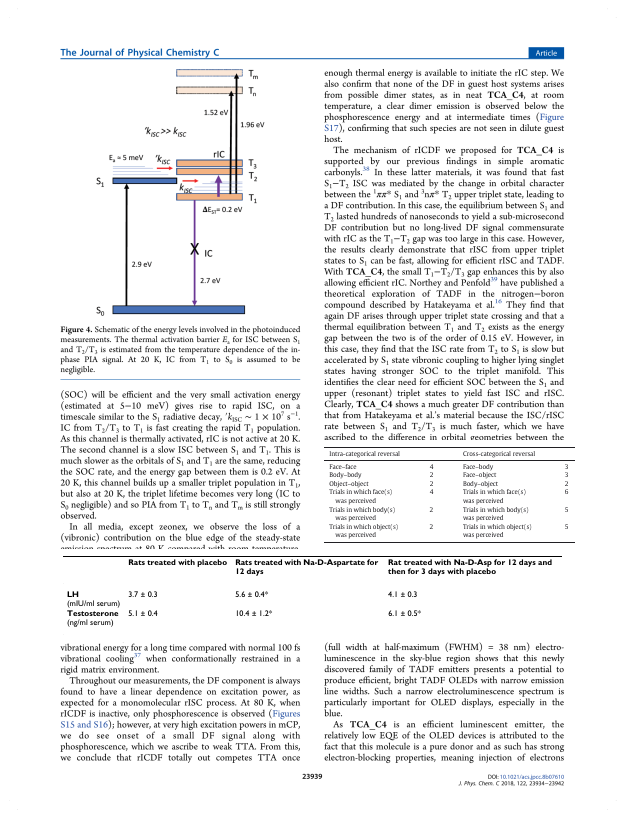borderless: (61, 554, 563, 636), (323, 445, 575, 542)
cell: (387, 559, 552, 577), (234, 559, 379, 577), (328, 523, 399, 540), (462, 523, 533, 540), (328, 505, 396, 522), (462, 505, 530, 522), (328, 488, 393, 505), (462, 488, 527, 505), (65, 590, 121, 609), (65, 610, 119, 628), (127, 559, 228, 568), (462, 450, 536, 458), (328, 450, 401, 458), (234, 609, 273, 619), (234, 590, 269, 600), (387, 609, 421, 619), (328, 480, 370, 488), (328, 471, 363, 480), (462, 471, 497, 480), (127, 590, 158, 600), (387, 590, 418, 600), (127, 609, 158, 619), (462, 480, 499, 488), (462, 463, 494, 471), (328, 463, 358, 471), (564, 471, 570, 480), (564, 488, 570, 497), (564, 505, 570, 514), (564, 463, 570, 471), (564, 480, 570, 488), (564, 523, 570, 531), (429, 471, 434, 480), (429, 488, 434, 497), (429, 505, 434, 514), (429, 463, 434, 471), (429, 480, 434, 488), (429, 523, 434, 531)
